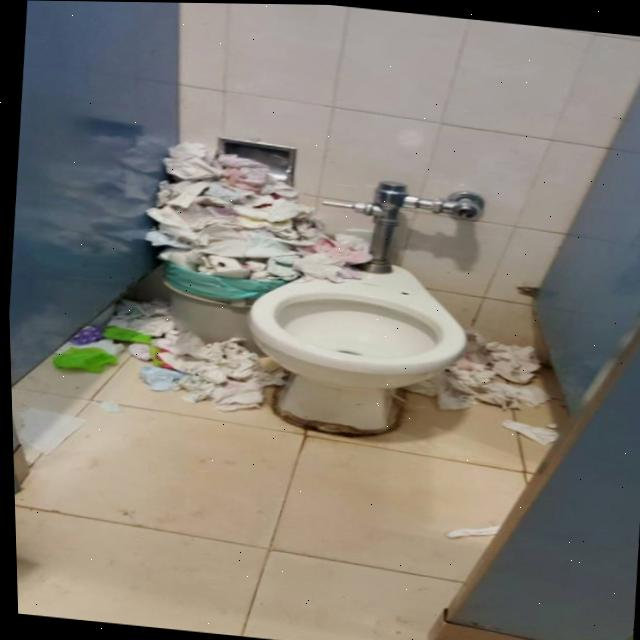garbage: (395, 323, 566, 449), (11, 384, 176, 478), (389, 494, 525, 567)
overflow_bin: (36, 125, 342, 418)
